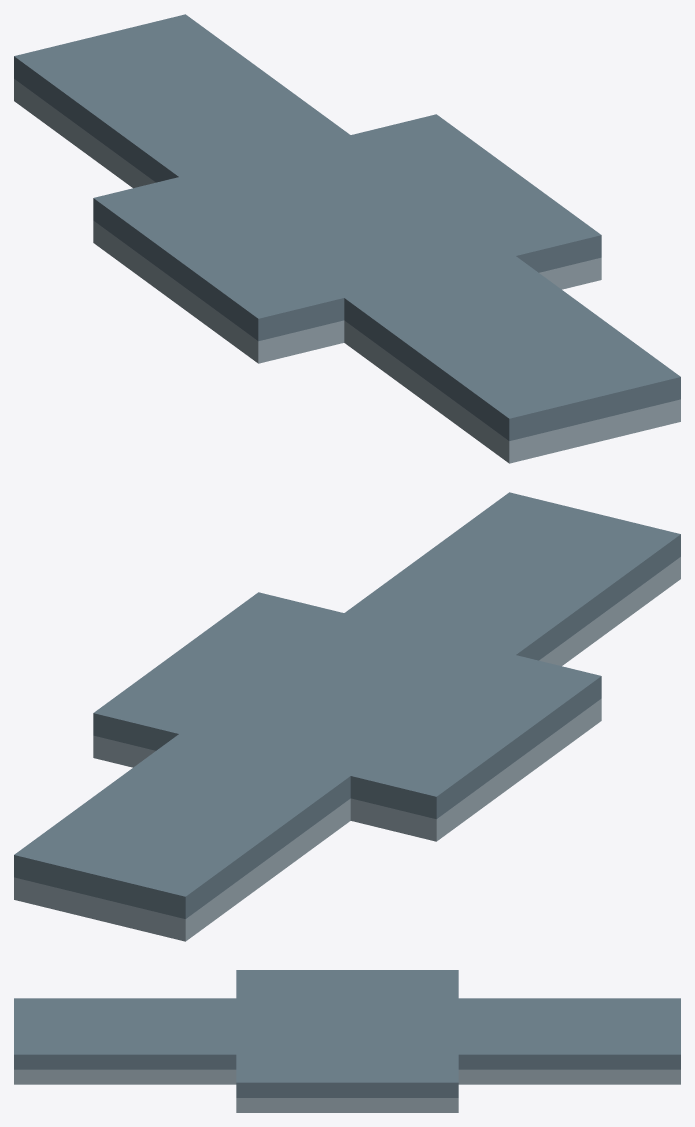
Rendered from Lv2FloorBridge.fbx.
3 views of the same model, one above another, from view 1: azimuth 30°, elevation 25°; view 2: azimuth 150°, elevation 25°; view 3: azimuth 270°, elevation 25° (orthographic). The views are drawn at different scales.
Visible parts, largest first — view 1: Lv2FloorBridge; view 2: Lv2FloorBridge; view 3: Lv2FloorBridge.
Boxes of the visible parts, bbox=[...] form: Lv2FloorBridge: bbox=[14, 14, 680, 463]; Lv2FloorBridge: bbox=[14, 492, 680, 941]; Lv2FloorBridge: bbox=[14, 970, 680, 1112].
Size of the model in its own units: 1600 by 200 by 4000.
